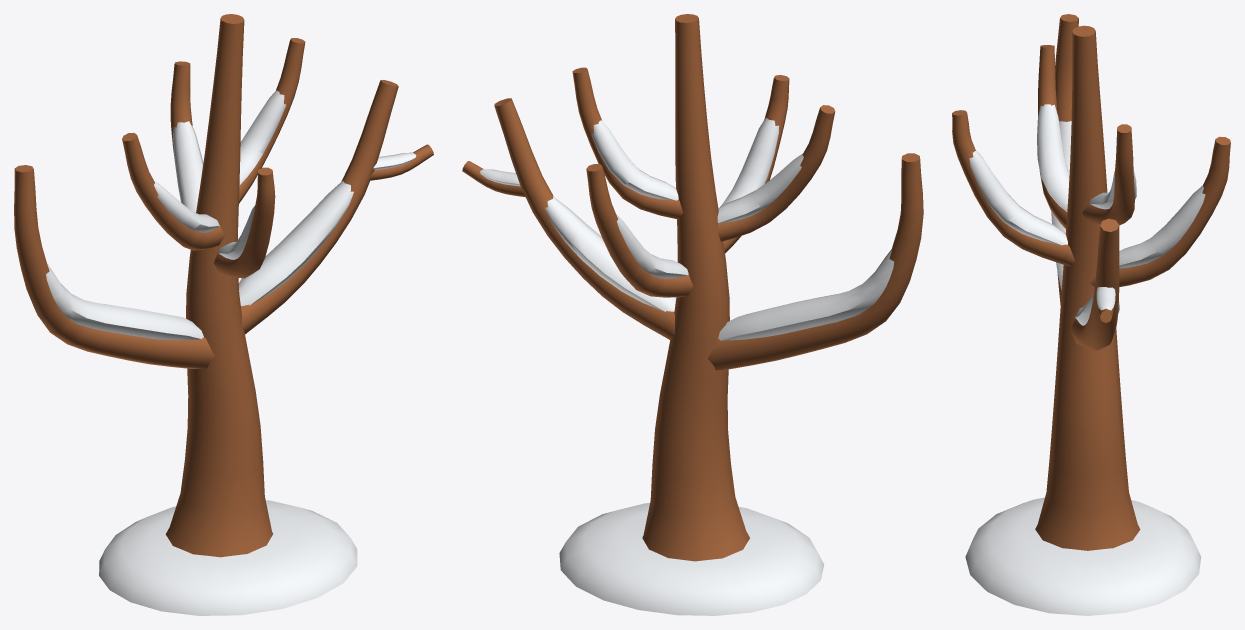
Rendered from SnowyBareTree.obj.
3 views of the same model, side by side, from view 1: azimuth 30°, elevation 25°; view 2: azimuth 150°, elevation 25°; view 3: azimuth 270°, elevation 25° (orthographic). The views are drawn at different scales.
Visible parts, largest first — view 1: SnowyBareTree; view 2: SnowyBareTree; view 3: SnowyBareTree.
Part boxes in pixels (x1,y1,x2,y2): SnowyBareTree: (14,14,433,615); SnowyBareTree: (462,14,923,615); SnowyBareTree: (952,14,1230,615).
Size of the model in its own units: 13.47 by 16.11 by 7.62.
1 material, 1 textured.
